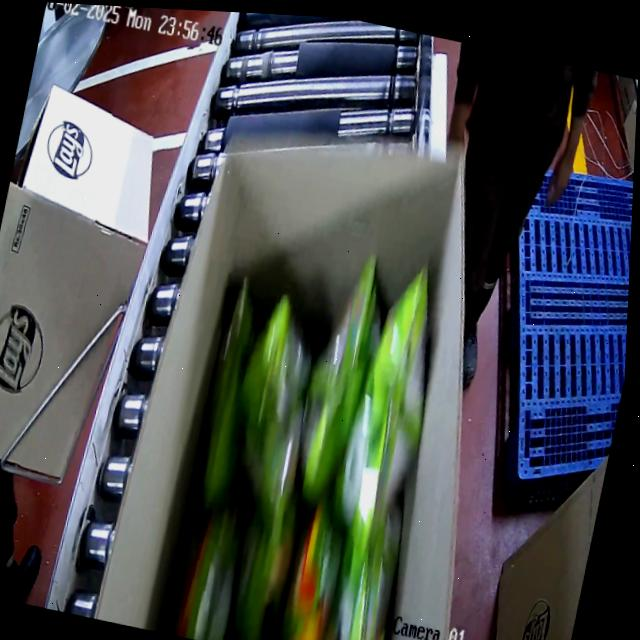YOGURT_HERB: (164, 237, 453, 640)
